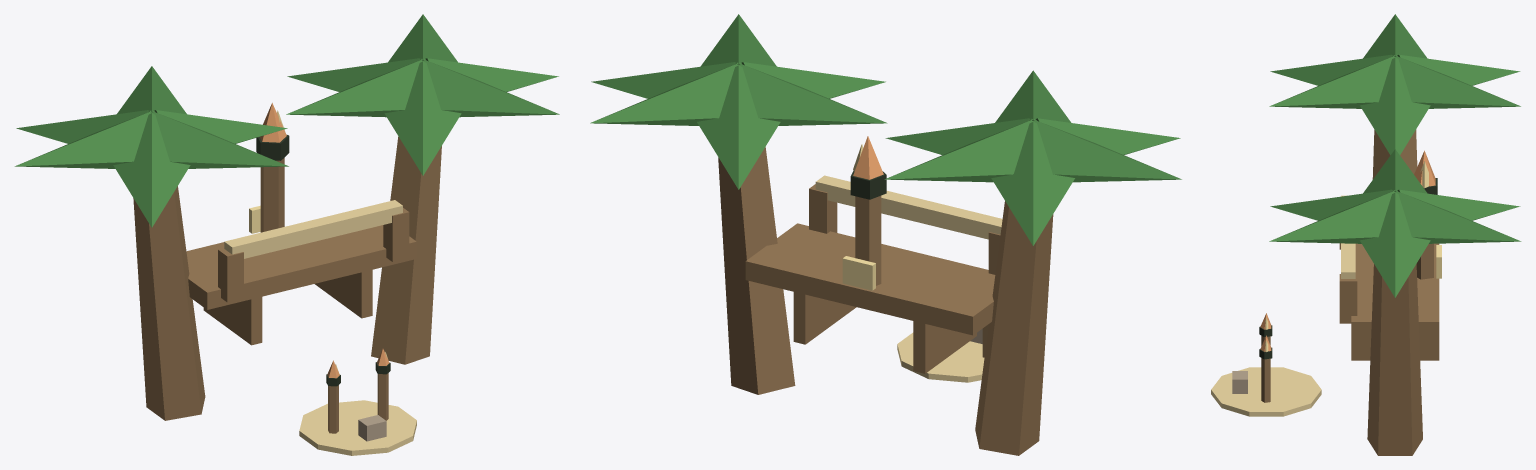
Rendered from jungle-landmark-s2c.glb.
The picture shows the model from 3 angles, left to right: view 1: azimuth 30°, elevation 25°; view 2: azimuth 150°, elevation 25°; view 3: azimuth 270°, elevation 25°; orthographic projection. The views are drawn at different scales.
Visible parts, largest first — view 1: jungle-landmark-s2c; view 2: jungle-landmark-s2c; view 3: jungle-landmark-s2c.
Part boxes in pixels (x1=…): jungle-landmark-s2c: x1=14, y1=14, x2=559, y2=455; jungle-landmark-s2c: x1=590, y1=14, x2=1181, y2=455; jungle-landmark-s2c: x1=1211, y1=14, x2=1521, y2=455.
Bounding box in the file's own units: 1.98 × 1.06 × 1.06.
